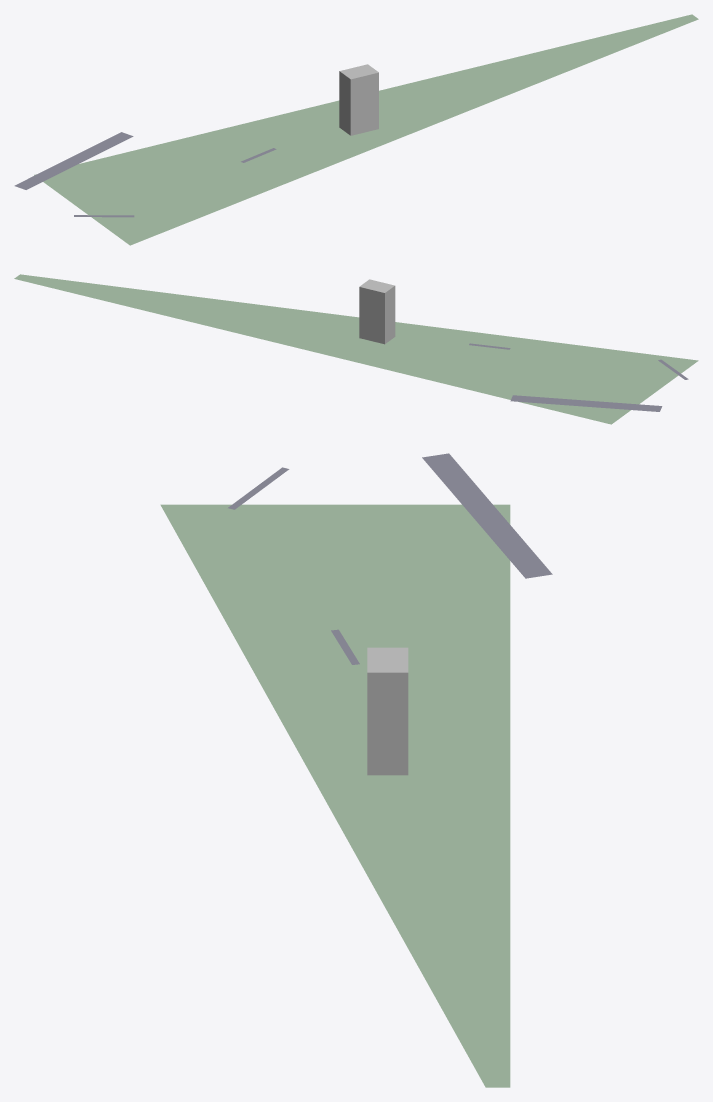
Rendered from 109_85_mid.glb.
3 renders of one model, top to bottom at view 1: azimuth 30°, elevation 25°; view 2: azimuth 150°, elevation 25°; view 3: azimuth 270°, elevation 25°, orthographic. The views are drawn at different scales.
Size of the model in its own units: 528 by 41.1 by 142.
